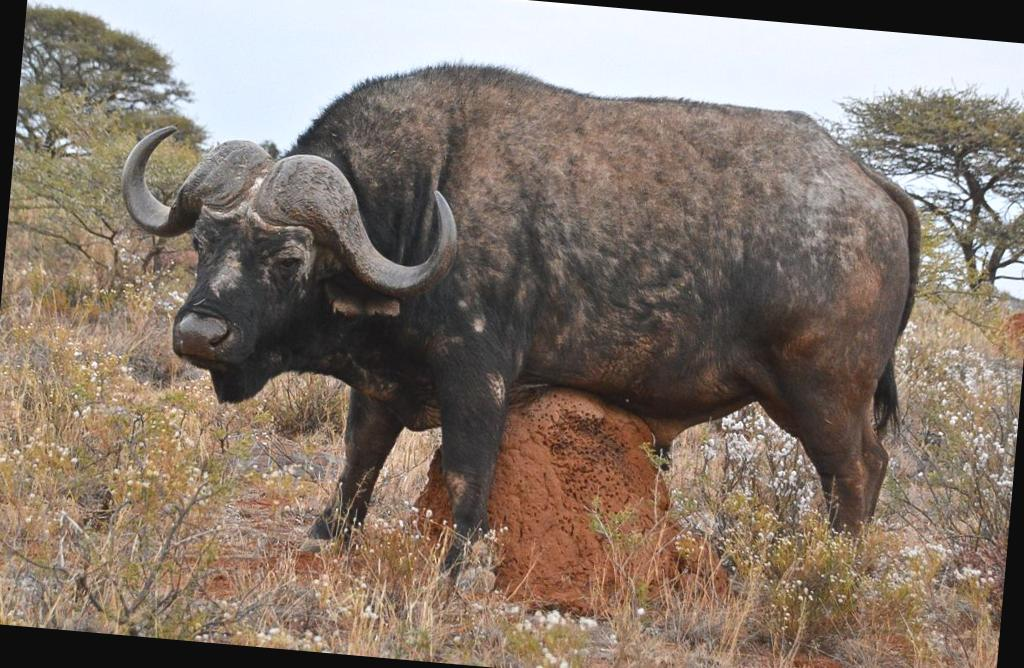Buffalo: (18, 0, 957, 571)
